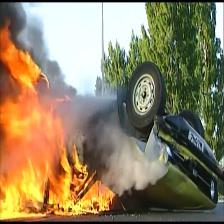fire: (0, 15, 126, 221)
smoke: (71, 79, 180, 207), (3, 4, 90, 86)
